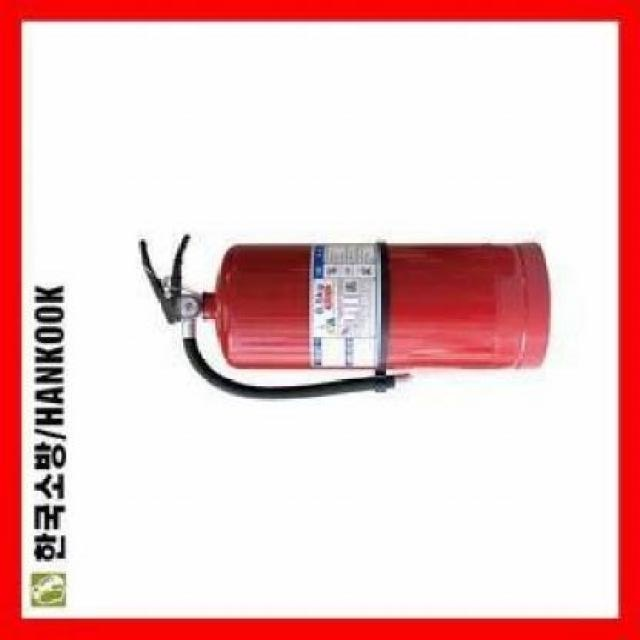fire extinguisher: (137, 233, 551, 402)
